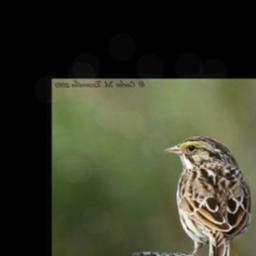Sparrow: (161, 134, 251, 256)
